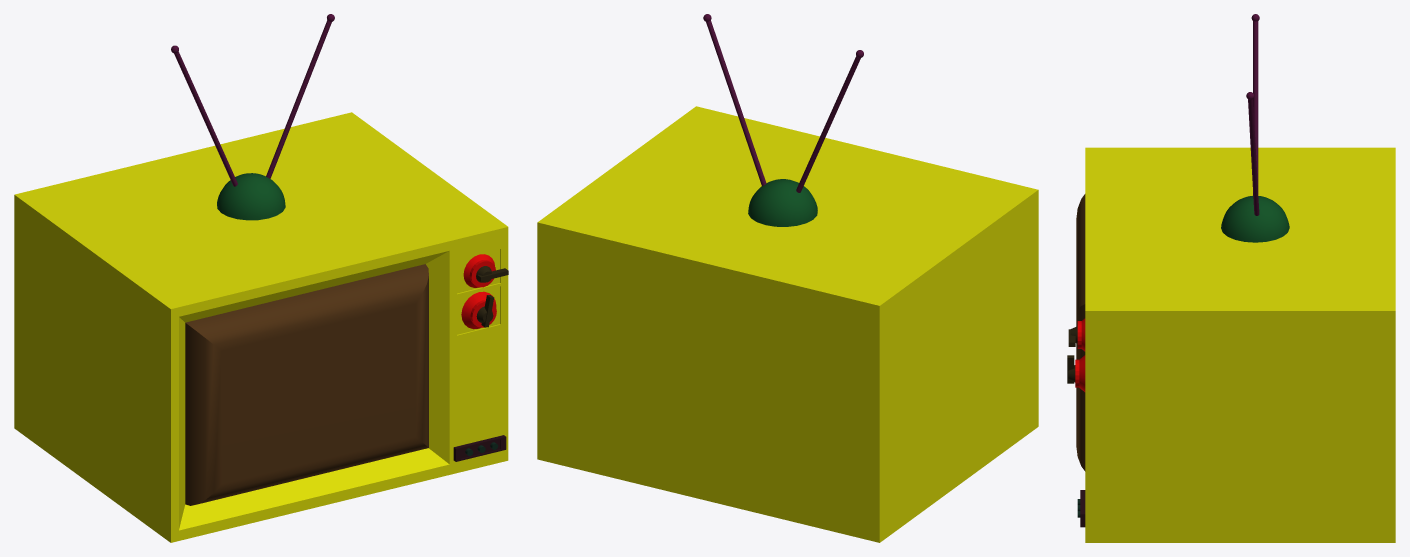
The picture shows the model from 3 angles, left to right: view 1: azimuth 30°, elevation 25°; view 2: azimuth 150°, elevation 25°; view 3: azimuth 270°, elevation 25°; orthographic projection. The views are drawn at different scales.
Visible parts, largest first — view 1: polySurface60; view 2: polySurface60; view 3: polySurface60.
Boxes of the visible parts, box(x1,y1,x2,y2) form: polySurface60: box(14, 14, 508, 542); polySurface60: box(537, 14, 1038, 542); polySurface60: box(1067, 14, 1395, 542).
Bounding box in the file's own units: 75.85 × 88.5 × 64.44.
